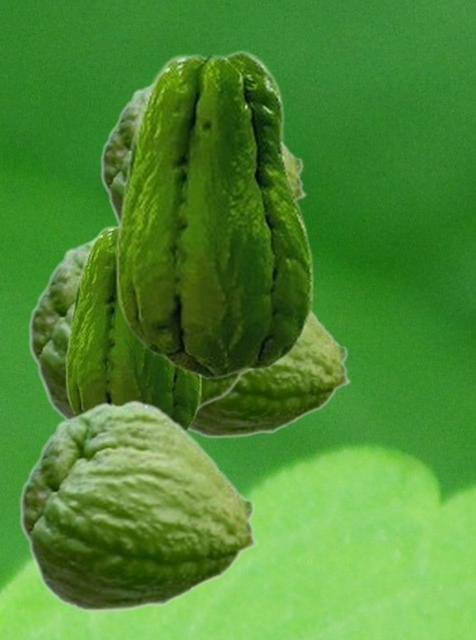sayote: (115, 49, 313, 379), (19, 399, 259, 612), (28, 234, 256, 420), (100, 82, 307, 229), (65, 223, 201, 430), (190, 311, 351, 438)
